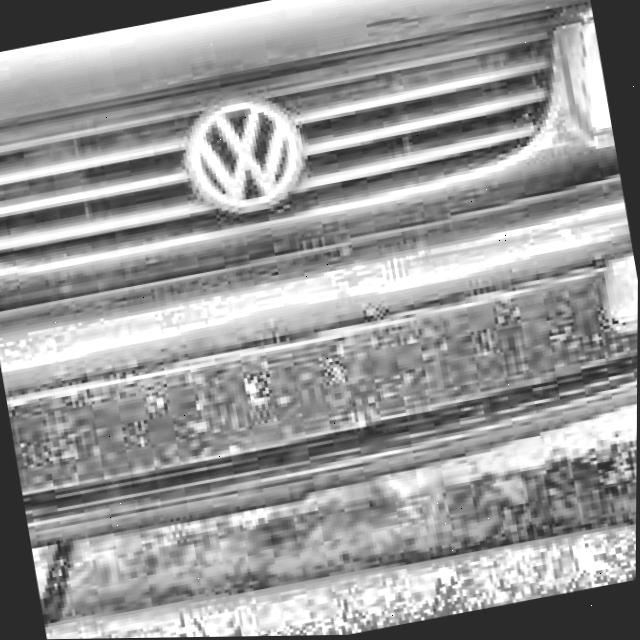bumper_scratch: (363, 0, 592, 58)
